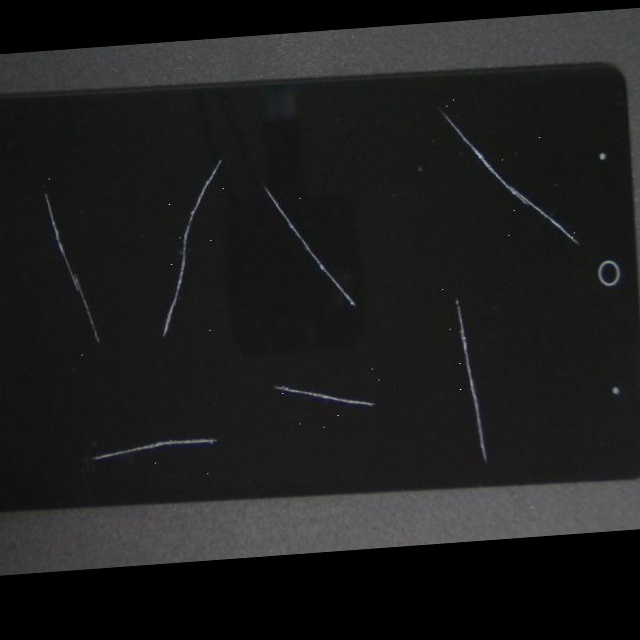scratch: (0, 197, 482, 574), (196, 114, 640, 450), (118, 166, 562, 498), (94, 8, 640, 274), (97, 31, 340, 289), (0, 222, 170, 575), (0, 47, 123, 347)
